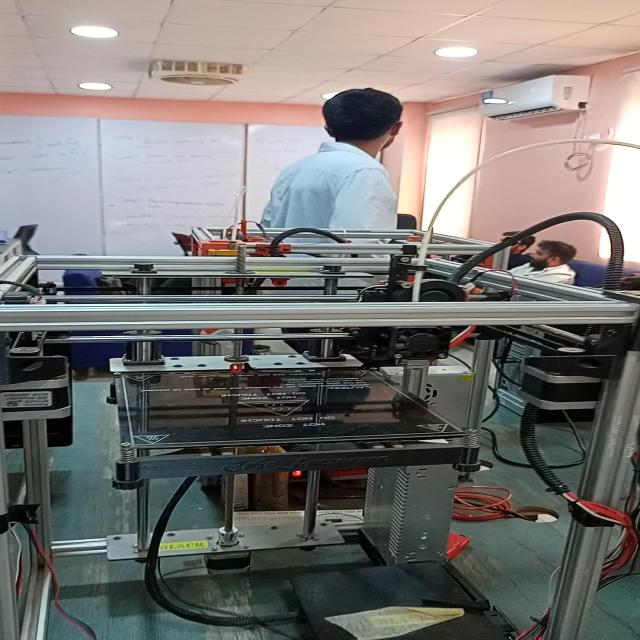dress: (262, 139, 409, 281)
